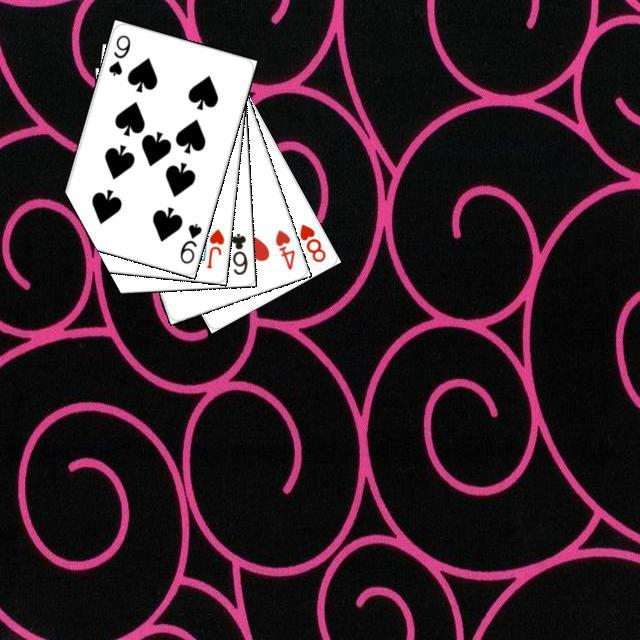4h: (270, 225, 297, 271)
6c: (226, 228, 249, 277)
8h: (294, 219, 328, 264)
9s: (104, 30, 132, 78), (175, 218, 203, 265)
Jh: (202, 224, 226, 270)
